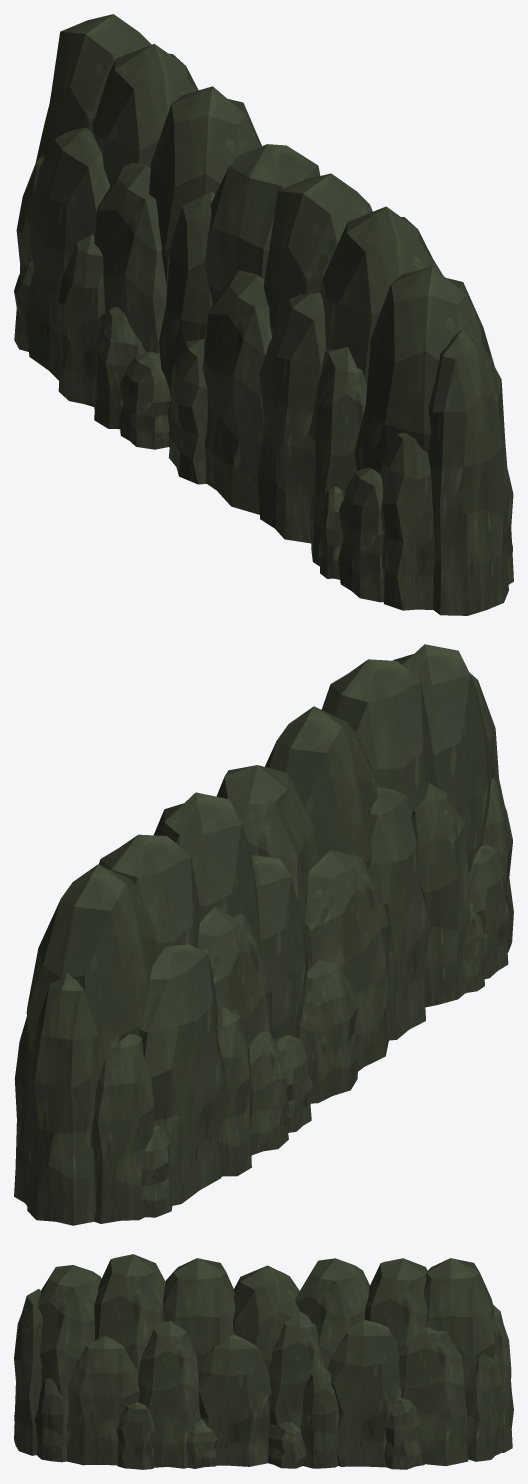
The model's file is ModelWall_Ura_Green.fbx.
3 views of the same model, one above another, from view 1: azimuth 30°, elevation 25°; view 2: azimuth 150°, elevation 25°; view 3: azimuth 270°, elevation 25° (orthographic). The views are drawn at different scales.
Visible parts, largest first — view 1: Kabe_Ura_Green; view 2: Kabe_Ura_Green; view 3: Kabe_Ura_Green.
Boxes of the visible parts, x1=… form: Kabe_Ura_Green: x1=14, y1=14, x2=513, y2=615; Kabe_Ura_Green: x1=14, y1=644, x2=513, y2=1225; Kabe_Ura_Green: x1=14, y1=1254, x2=513, y2=1469.
Bounding box in the file's own units: 23.23 × 38.93 × 92.04.
Materials: 1 (1 with a texture image).
